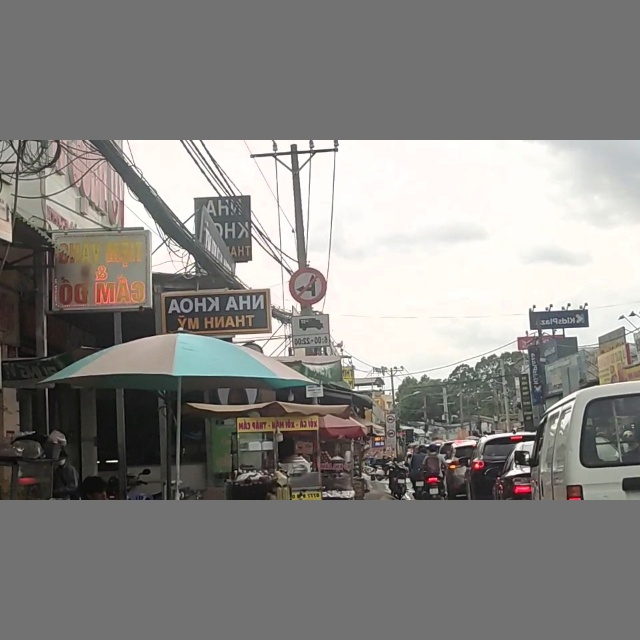P.139: (290, 268, 326, 304)
S.505a*Xe tai: (293, 314, 330, 347)
